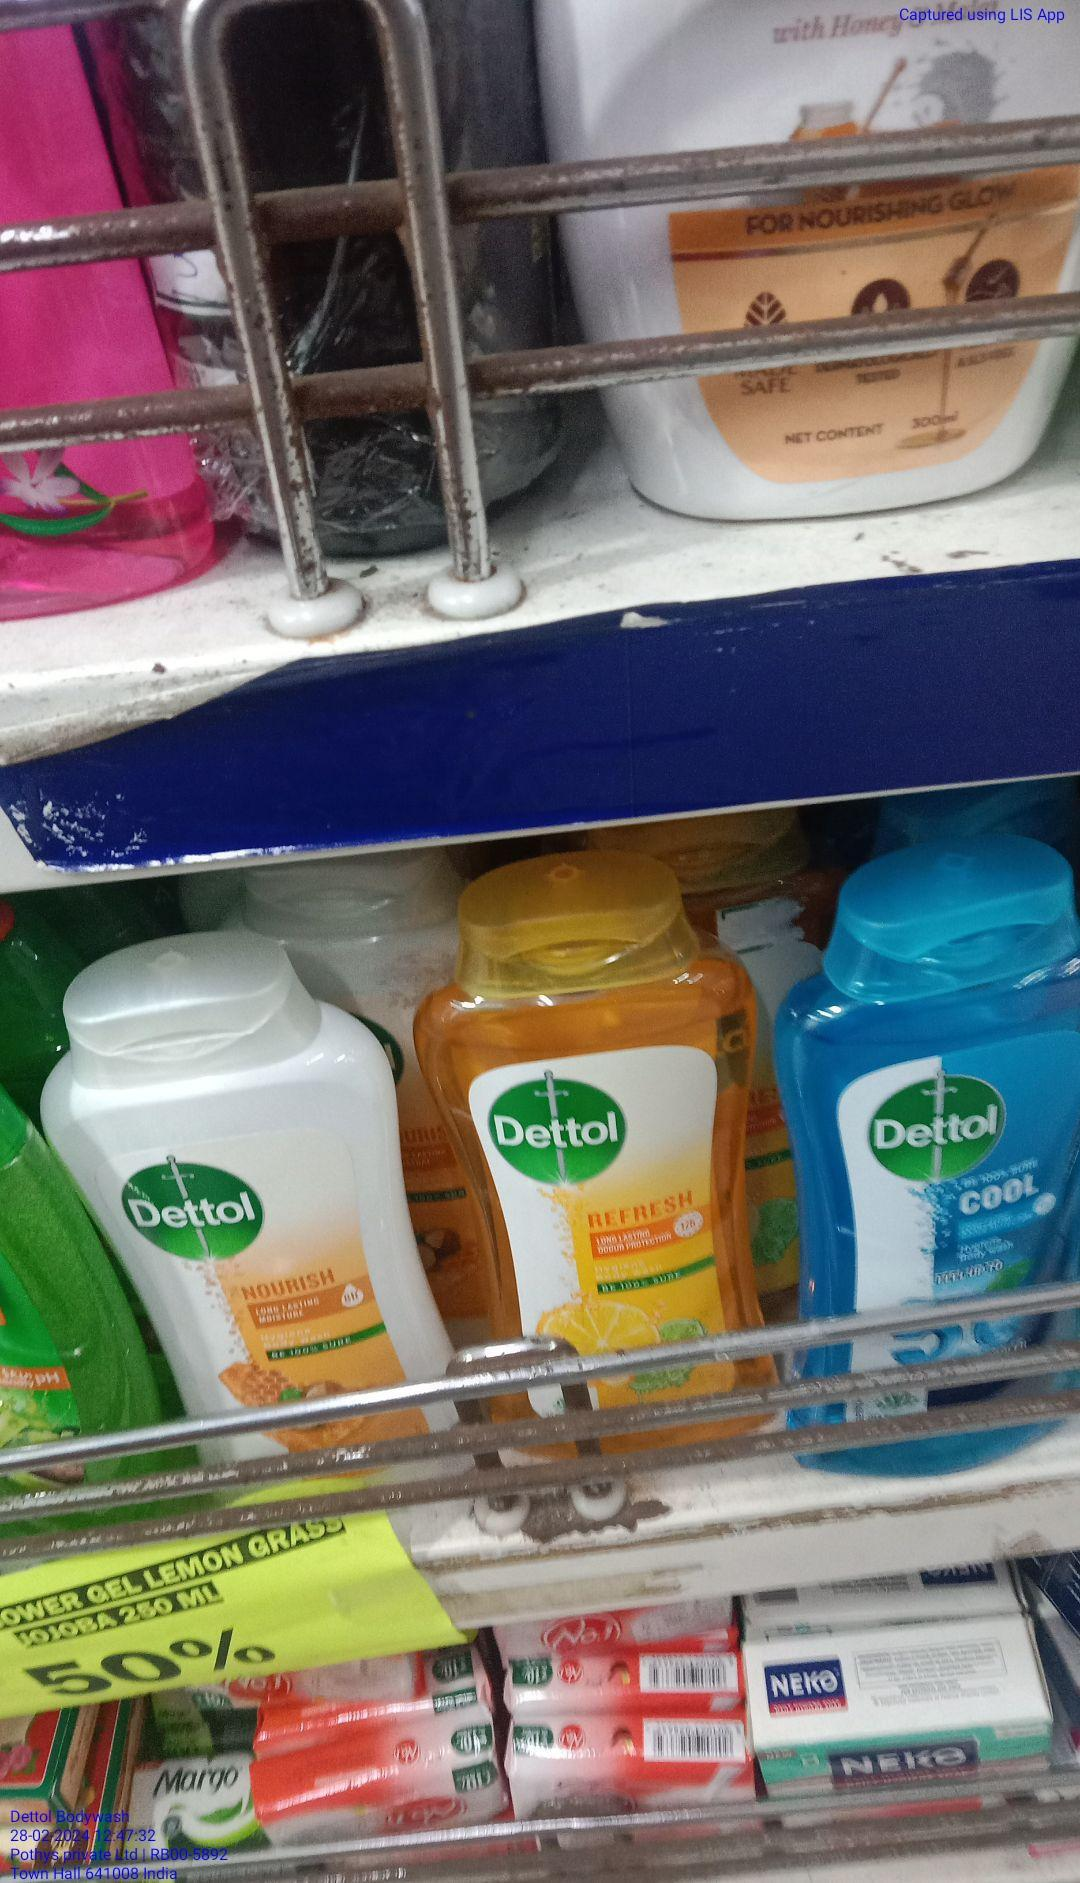Dettol_Bodywash_Cool: (799, 859, 1080, 1492)
Dettol_Bodywash_Refresh: (446, 899, 757, 1509)
Dettol_Nourish_Body_Wash_250ML: (85, 982, 416, 1514)
